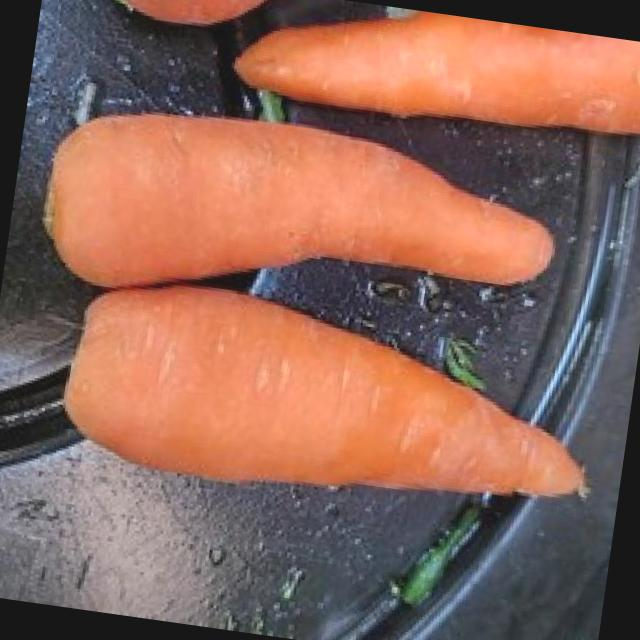carrot: (65, 286, 583, 496), (46, 113, 552, 288), (235, 11, 640, 133), (124, 0, 264, 25)
